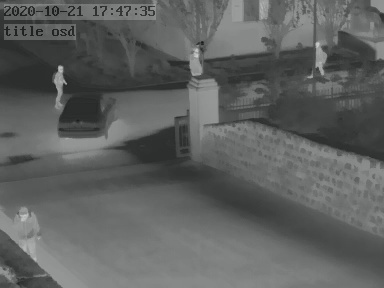person: (12, 202, 45, 262), (51, 65, 67, 108), (312, 37, 327, 78), (188, 46, 202, 77)
vehicle: (58, 92, 121, 141)
